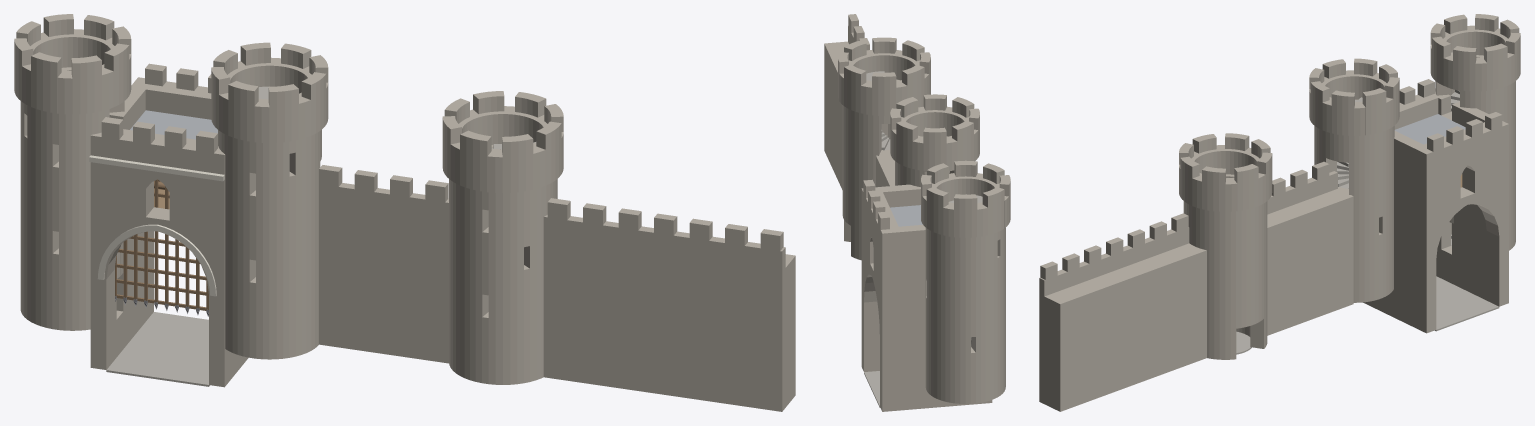
Rendered from water-gatehouse.glb.
The picture shows the model from 3 angles, left to right: view 1: azimuth 30°, elevation 25°; view 2: azimuth 150°, elevation 25°; view 3: azimuth 270°, elevation 25°; orthographic projection. The views are drawn at different scales.
Visible parts, largest first — view 1: stone (×3), curtain-wall-east-2, curtain-wall-east-1, gatehouse-front-wall, parapet-east-2, gate-passage-floor, passage-wall-left, oak, parapet-east-1, gatehouse-back-wall, passage-wall-right, upper-wall-left (+4 smaller); view 2: stone (×3), passage-wall-left, upper-wall-left, gatehouse-back-wall, curtain-wall-east-2, passage-wall-right, upper-wall-right, curtain-wall-east-1, gatehouse-roof-walk, gate-passage-floor, flags, merlon-front-01; view 3: stone (×3), curtain-wall-east-2, gatehouse-back-wall, curtain-wall-east-1, passage-wall-left, passage-wall-right, parapet-east-2, upper-wall-right, gate-passage-floor, upper-wall-left, parapet-east-1, gatehouse-roof-walk (+1 smaller).
Part boxes in pixels (x1,y1,x2,y2): stone (×3): (14, 14, 563, 384); curtain-wall-east-2: (543, 237, 795, 411); curtain-wall-east-1: (319, 205, 448, 363); gatehouse-front-wall: (91, 129, 224, 387); parapet-east-2: (543, 215, 785, 271); gate-passage-floor: (106, 312, 209, 386); passage-wall-left: (90, 224, 145, 369); oak: (115, 179, 208, 310); parapet-east-1: (319, 183, 448, 223); gatehouse-back-wall: (131, 77, 211, 321); passage-wall-right: (209, 241, 248, 386); upper-wall-left: (90, 87, 145, 224); stone (×3): (838, 37, 1010, 403); passage-wall-left: (880, 297, 973, 411); upper-wall-left: (880, 224, 925, 301); gatehouse-back-wall: (861, 187, 900, 411); curtain-wall-east-2: (824, 41, 848, 189); passage-wall-right: (861, 257, 879, 371); upper-wall-right: (861, 184, 920, 258); curtain-wall-east-1: (876, 152, 894, 187); gatehouse-roof-walk: (890, 205, 922, 226); gate-passage-floor: (864, 371, 880, 407); flags: (866, 71, 890, 150); merlon-front-01: (878, 211, 889, 229); stone (×3): (1179, 14, 1520, 359); curtain-wall-east-2: (1039, 243, 1206, 411); gatehouse-back-wall: (1414, 121, 1508, 333); curtain-wall-east-1: (1267, 189, 1353, 335); passage-wall-left: (1436, 193, 1507, 306); passage-wall-right: (1363, 207, 1430, 332); parapet-east-2: (1039, 227, 1189, 296); upper-wall-right: (1394, 131, 1432, 222); gate-passage-floor: (1435, 276, 1499, 331); upper-wall-left: (1438, 94, 1506, 195); parapet-east-1: (1267, 171, 1337, 214); gatehouse-roof-walk: (1394, 114, 1465, 144).
Size of the model in its own units: 27.94 by 16.4 by 29.97.
